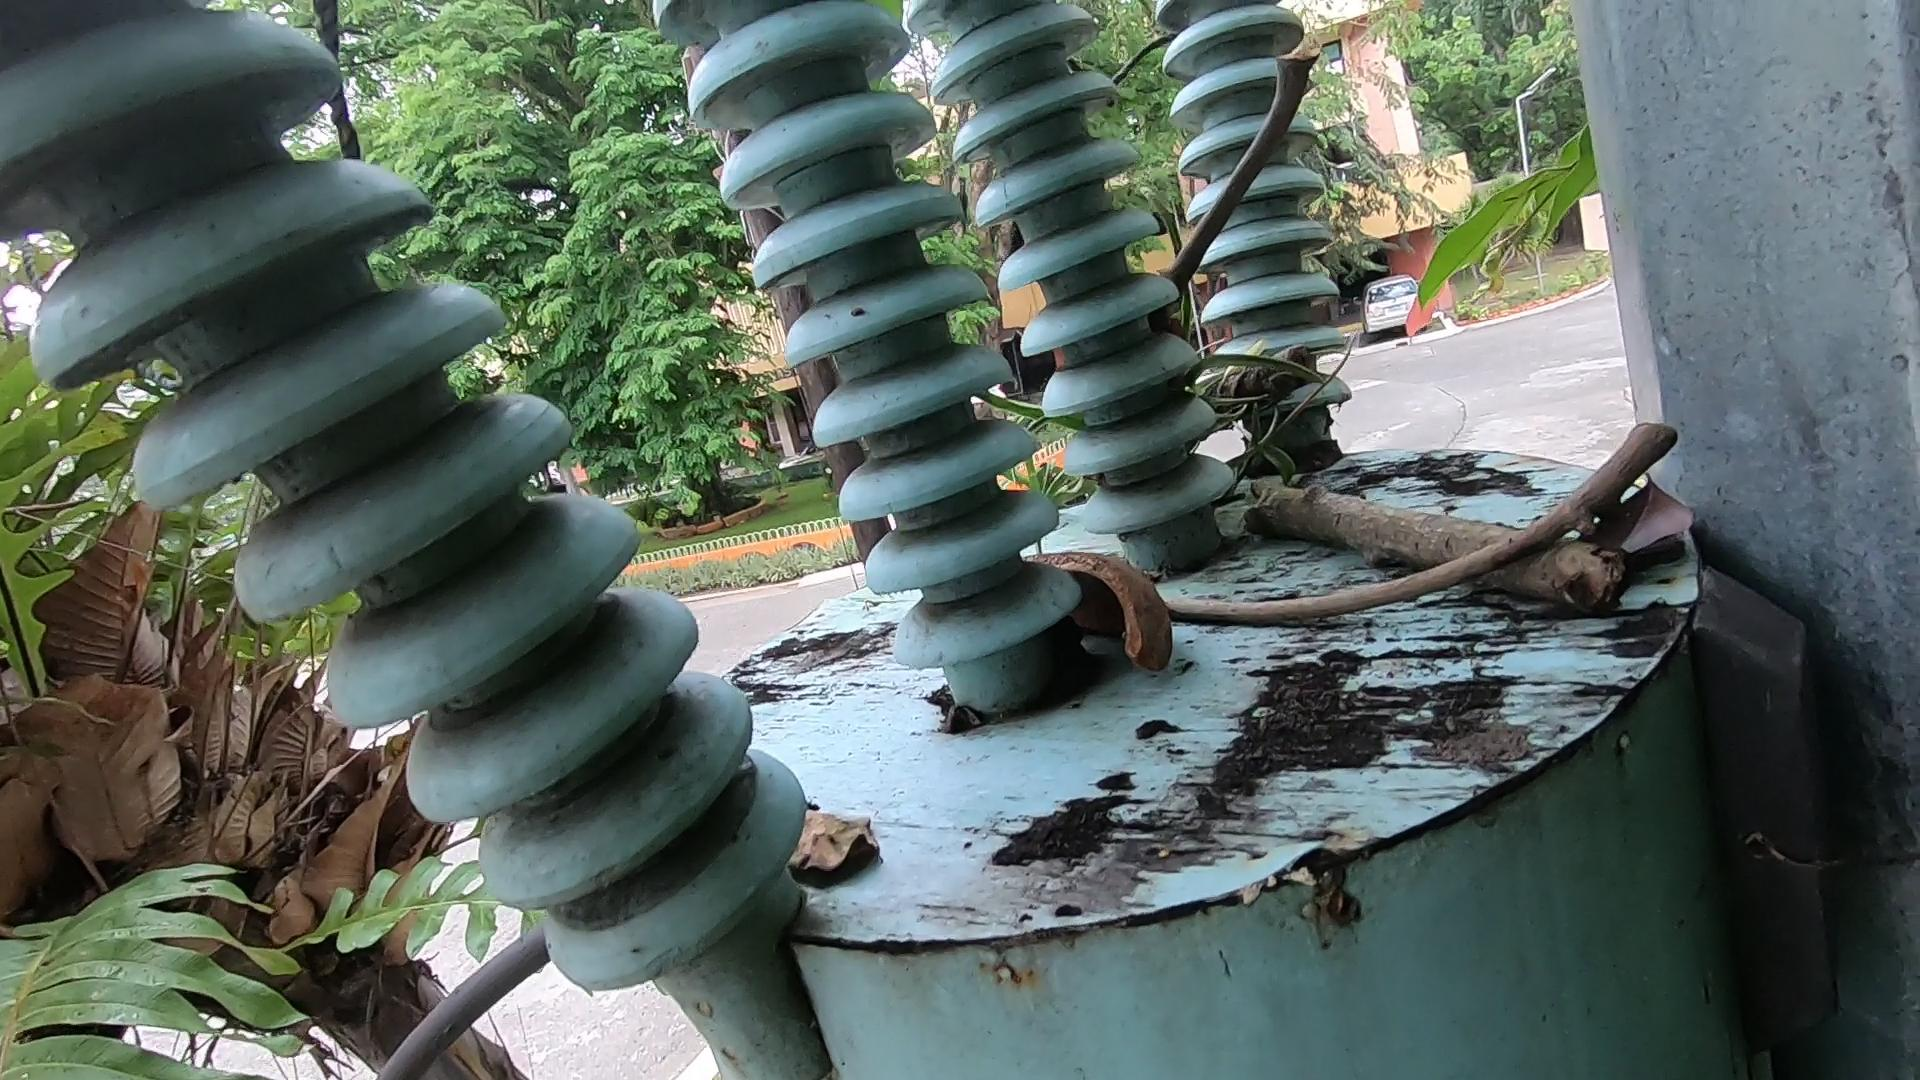branch with leaves: (1226, 409, 1689, 723)
leaf: (729, 800, 938, 961)
mahogany fruit: (1043, 524, 1228, 713)
tree branch: (1164, 516, 1832, 688), (1170, 22, 1328, 359)
